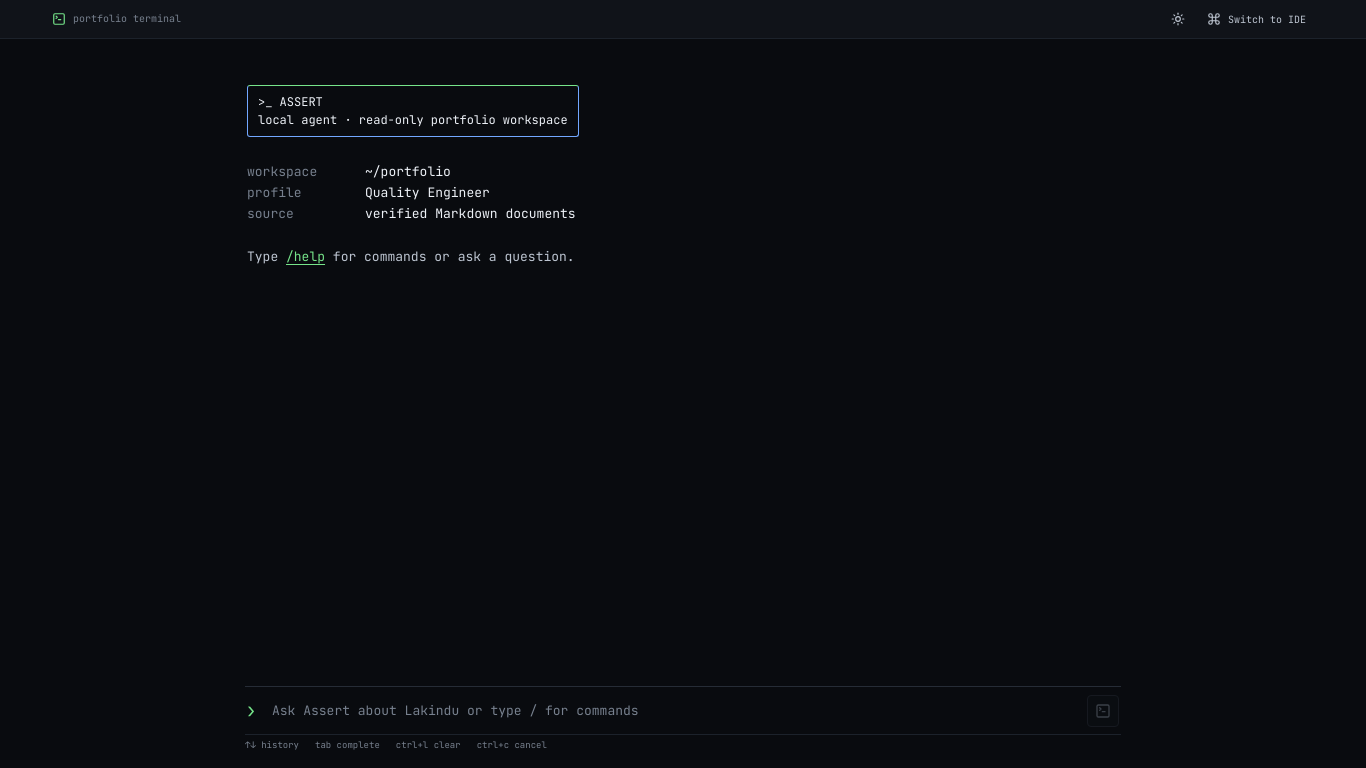
Scenario: Assert terminal › prints the complete slash command reference with /help
Type "/help" into the field named "Terminal command". click: (676, 710)
box: [270, 701, 1082, 720]
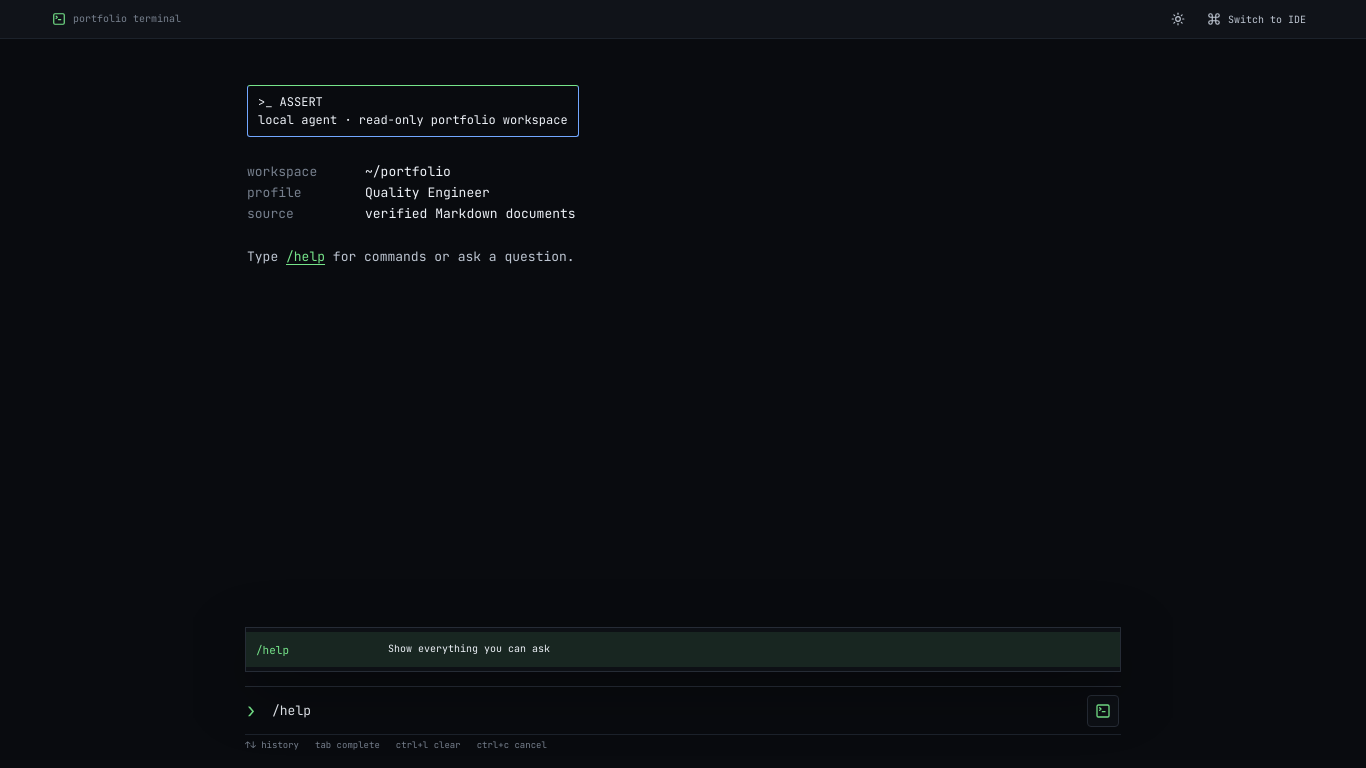
Submit the form named "Terminal command", box [245, 686, 1121, 734]
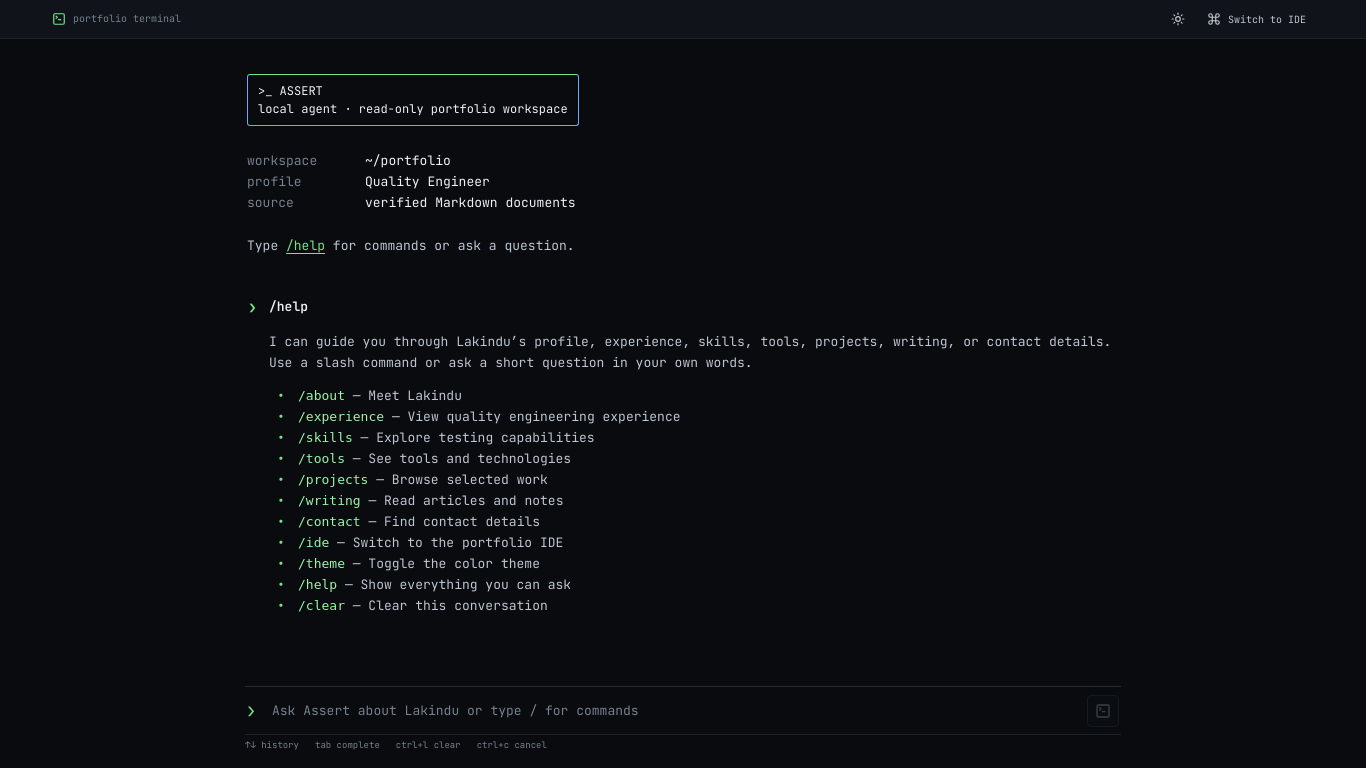
Expected: the field named "Terminal command" is enabled, [270, 701, 1082, 720]
Now the text "/experience" is shown, box [298, 409, 384, 424]
Now the text "View quality engineering experience" is shown, box [384, 408, 680, 425]
